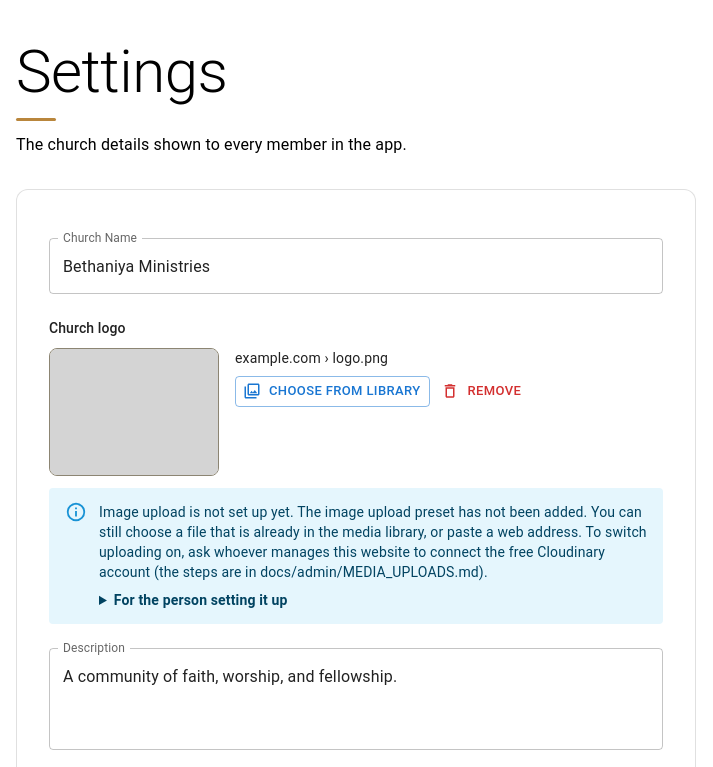
Test: SettingsPage › blocks the confirm dialog and shows a field error when church name is cleared
Clear the field with test id "church-name-input": (356, 266) [49,238,663,294]
(page scrolled)
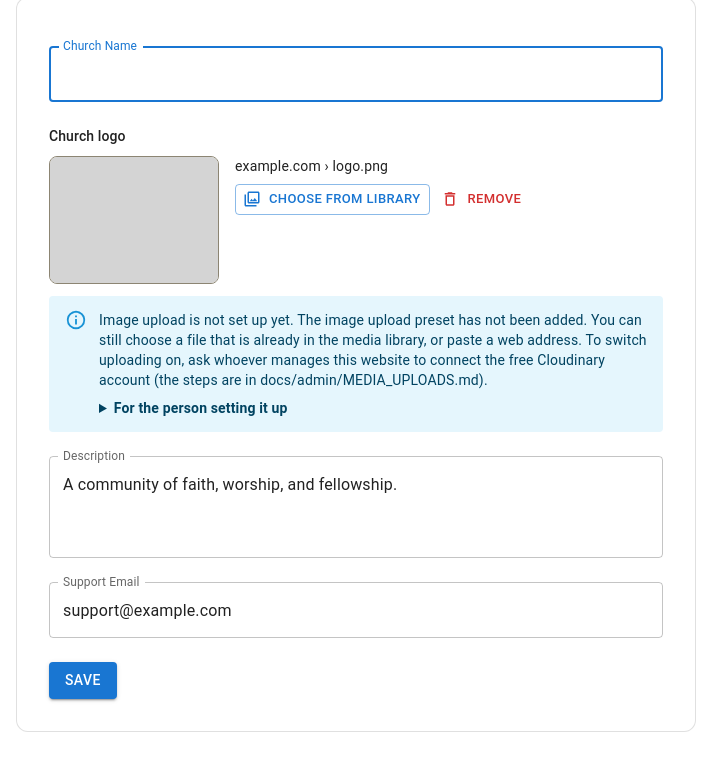
Click the button with test id "settings-save-button": (83, 680) [49,662,117,698]
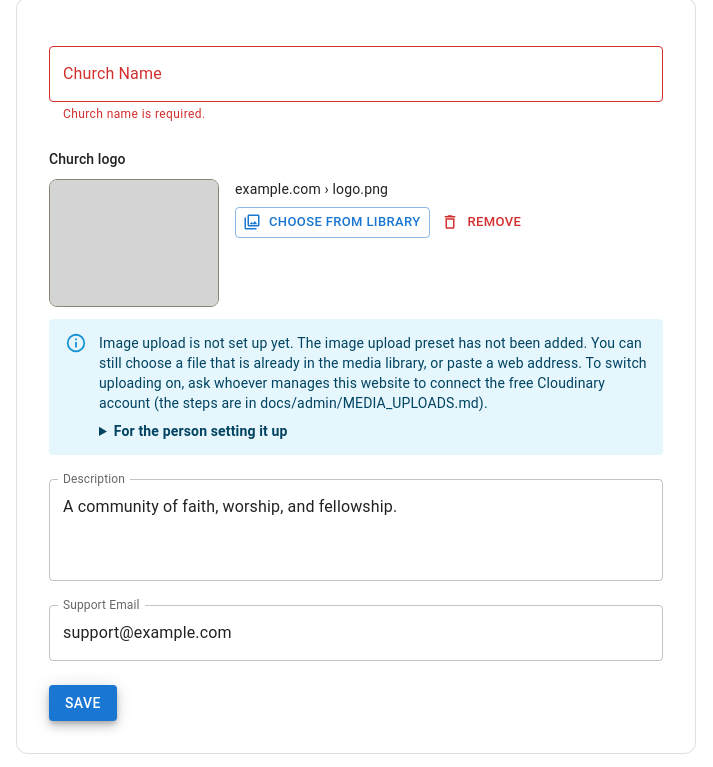
Expected: the text "Church name is required." is shown, [63,107,206,121]
